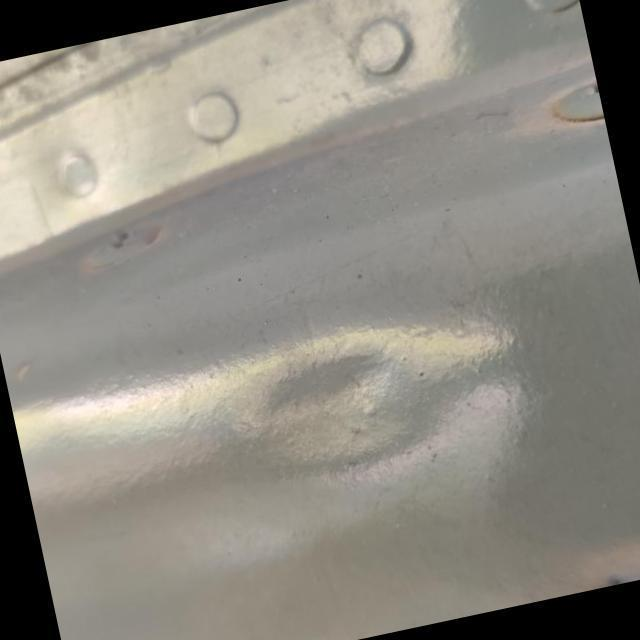Dent: (160, 232, 562, 578)
